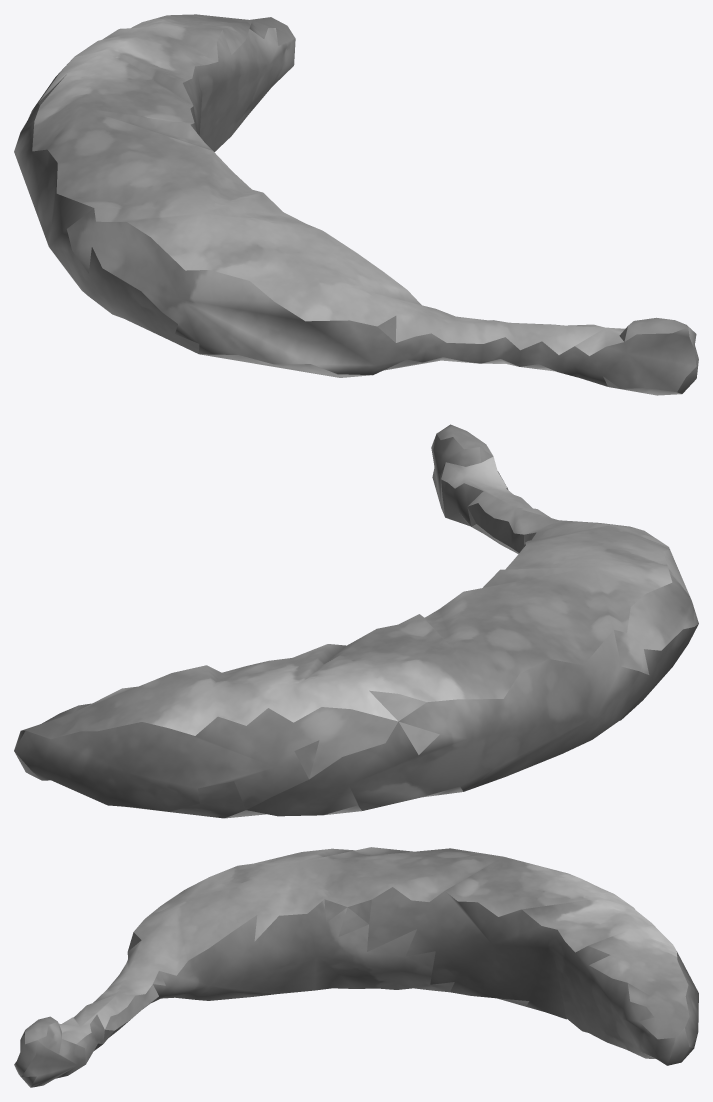
File: SM_Banana_01a.fbx
3 renders of one model, top to bottom at view 1: azimuth 30°, elevation 25°; view 2: azimuth 150°, elevation 25°; view 3: azimuth 270°, elevation 25°, orthographic. The views are drawn at different scales.
Parts seen in each view (by area): view 1: SM_Banana_01a_LOD0; view 2: SM_Banana_01a_LOD0; view 3: SM_Banana_01a_LOD0.
Part boxes in pixels (x1,y1,x2,y2): SM_Banana_01a_LOD0: (14,14,698,395); SM_Banana_01a_LOD0: (14,424,698,818); SM_Banana_01a_LOD0: (14,847,698,1087).
Bounding box in the file's own units: 11.3 × 20.44 × 3.81.
